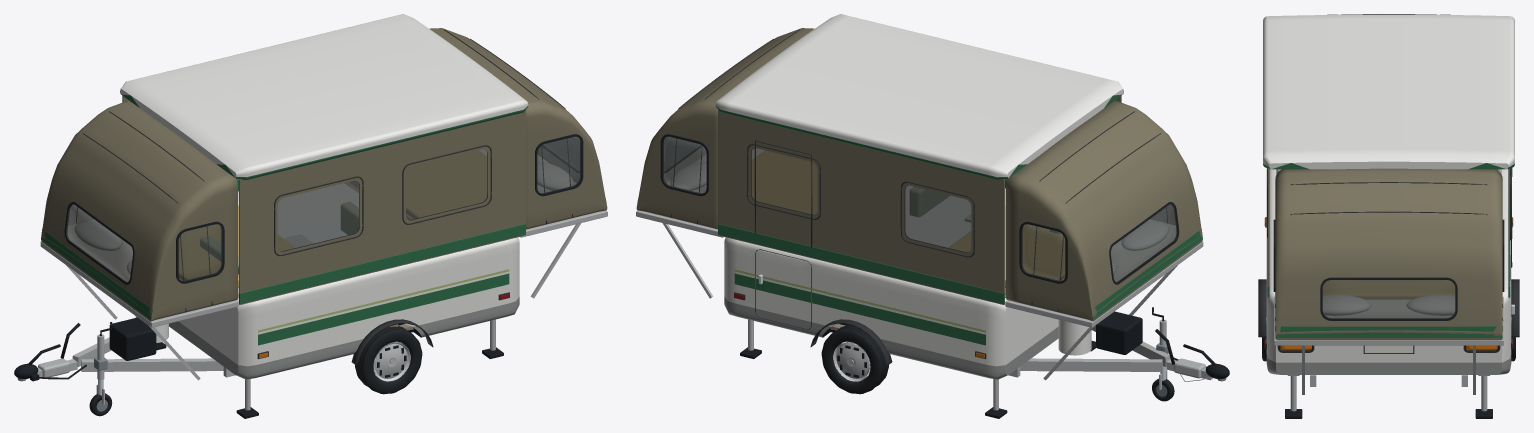
Rendered from generic-pop-up-camper-trailer-017f4d99.glb.
The picture shows the model from 3 angles, left to right: view 1: azimuth 30°, elevation 25°; view 2: azimuth 150°, elevation 25°; view 3: azimuth 270°, elevation 25°; orthographic projection. The views are drawn at different scales.
Visible parts, largest first — view 1: Lifted hard roof, Canvas bunk-end tent, Canvas side wall, Original pop-up camper lower box, Canvas bunk-end tent.001, Vinyl window, Vinyl window.001, Bunk mattress duvet.001, Canvas lower trim band, Forest green box stripe, Bunk tent end vinyl window glazing, Tyre with tread blocks (+20 smaller); view 2: Lifted hard roof, Canvas side wall.001, Canvas bunk-end tent, Original pop-up camper lower box, Canvas bunk-end tent.001, Vinyl window.002, Vinyl window.003, Bunk mattress duvet.001, Canvas lower trim band.001, Kerbside entry door, Bunk tent end vinyl window glazing, Tyre with tread blocks.001 (+21 smaller); view 3: Lifted hard roof, Canvas bunk-end tent.001, Original pop-up camper lower box, Bunk tent end vinyl window glazing.001, Bunk mattress duvet.001, Bunk tent lower vinyl skirt band.001, Pull-out bunk platform.001, Bunk tent end vinyl window rubber seal.001, Bunk mattress mattress.001, Bunk mattress pillow.002, Bunk mattress pillow.003, Fender flare (+4 smaller).
Boxes of the visible parts, x1,y1,x2,y2 form: Lifted hard roof: (120,14,528,179); Canvas bunk-end tent: (41,100,237,321); Canvas side wall: (239,110,525,304); Original pop-up camper lower box: (169,183,519,379); Canvas bunk-end tent.001: (429,28,607,229); Vinyl window: (277,180,359,251); Vinyl window.001: (406,149,487,220); Bunk mattress duvet.001: (406,150,486,218); Canvas lower trim band: (239,223,525,303); Forest green box stripe: (258,273,509,345); Bunk tent end vinyl window glazing: (66,204,132,282); Tyre with tread blocks: (355,326,422,394); Lifted hard roof: (715,14,1123,179); Canvas side wall.001: (718,110,1004,304); Canvas bunk-end tent: (1006,100,1202,321); Original pop-up camper lower box: (724,186,1058,379); Canvas bunk-end tent.001: (636,28,814,229); Vinyl window.002: (905,185,971,252); Vinyl window.003: (751,148,817,215); Bunk mattress duvet.001: (752,150,817,214); Canvas lower trim band.001: (718,223,1004,303); Kerbside entry door: (756,249,811,328); Bunk tent end vinyl window glazing: (1111,204,1177,282); Tyre with tread blocks.001: (821,325,888,394); Lifted hard roof: (1263,14,1514,169); Canvas bunk-end tent.001: (1275,168,1502,340); Original pop-up camper lower box: (1266,168,1511,374); Bunk tent end vinyl window glazing.001: (1322,280,1455,318); Bunk mattress duvet.001: (1323,280,1454,299); Bunk tent lower vinyl skirt band.001: (1275,326,1502,337); Pull-out bunk platform.001: (1274,296,1503,345); Bunk tent end vinyl window rubber seal.001: (1320,277,1457,320); Bunk mattress mattress.001: (1326,300,1451,317); Bunk mattress pillow.002: (1323,295,1371,315); Bunk mattress pillow.003: (1406,295,1454,315); Fender flare: (1258,279,1266,337).
Size of the model in its own units: 5.24 by 2.44 by 2.14.
Materials: 27 (27 with a texture image).
